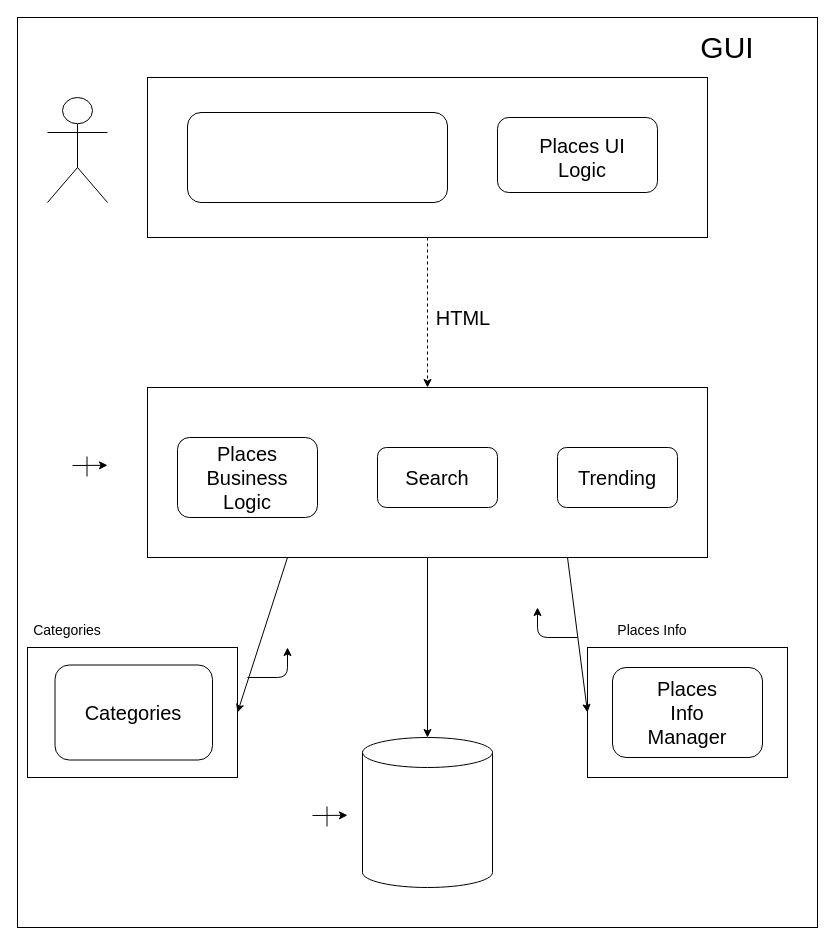
Some shapes in this 835 by 945 pixel diagram are drawn without their labels. Each missing label, with the box of its shape:
Database: (362, 736, 492, 888)
ExploreSkopjeUI: (186, 112, 448, 202)
User: (46, 96, 108, 202)
